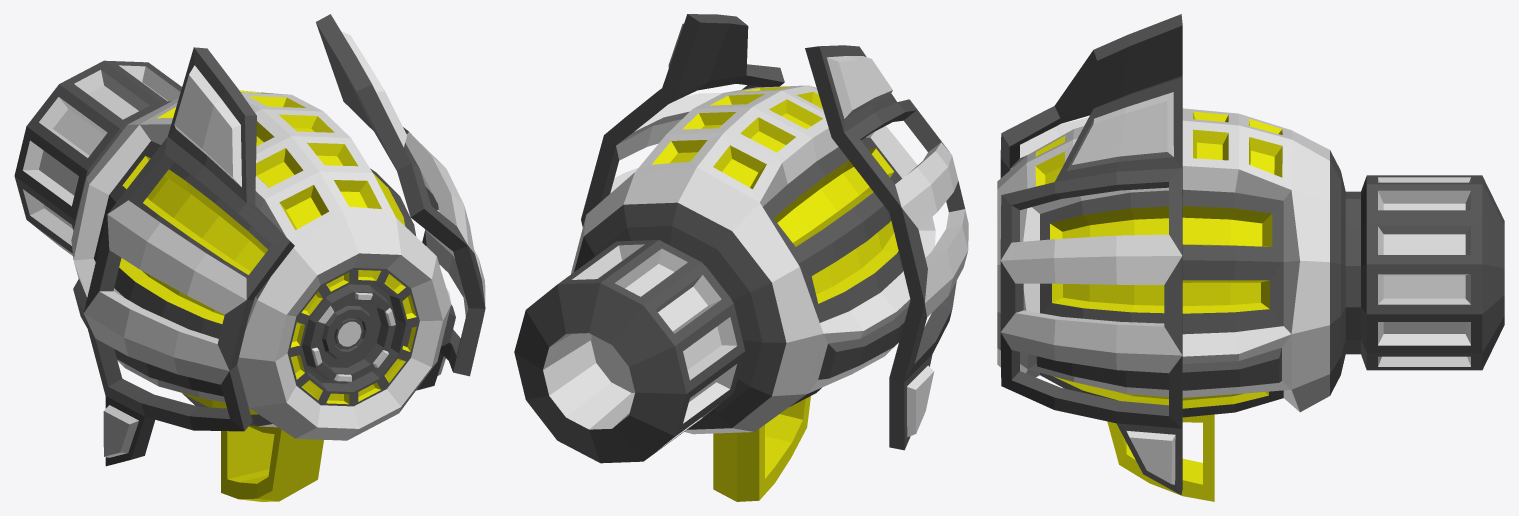
The model's file is tower8_2.fbx.
3 renders of one model, left to right at view 1: azimuth 30°, elevation 25°; view 2: azimuth 150°, elevation 25°; view 3: azimuth 270°, elevation 25°, orthographic. The views are drawn at different scales.
Visible parts, largest first — view 1: polySurface58; view 2: polySurface58; view 3: polySurface58.
Boxes of the visible parts, left/top/right/bottom form: polySurface58: left=14, top=14, right=485, bottom=501; polySurface58: left=514, top=14, right=968, bottom=501; polySurface58: left=997, top=14, right=1504, bottom=501.
Bounding box in the file's own units: 0.5434 × 0.6943 × 0.7056.
